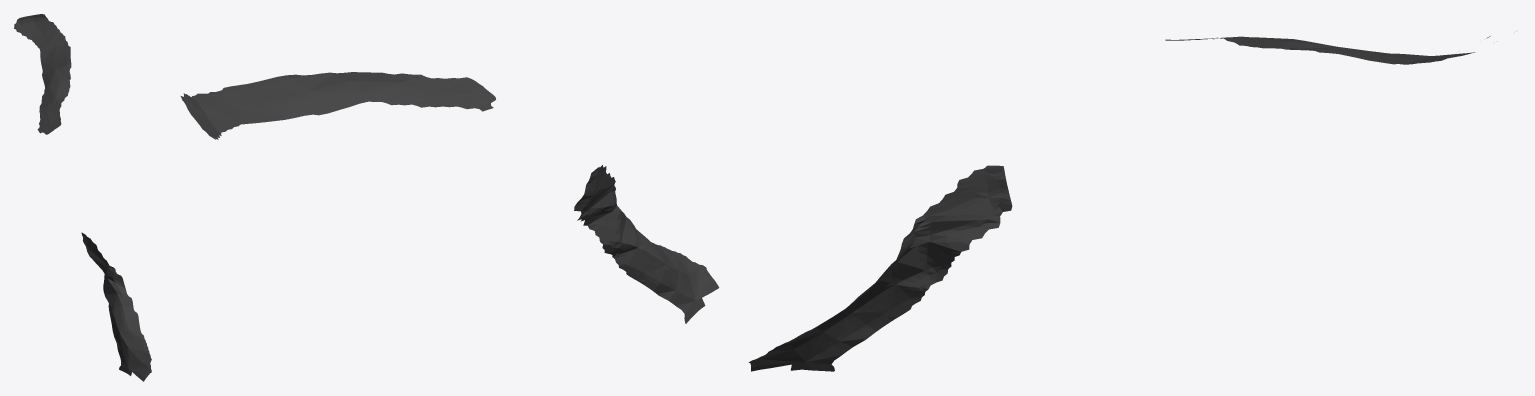
File: a_median_palmar_br.glb
3 renders of one model, left to right at view 1: azimuth 30°, elevation 25°; view 2: azimuth 150°, elevation 25°; view 3: azimuth 270°, elevation 25°, orthographic. The views are drawn at different scales.
Parts seen in each view (by area): view 1: a_median_palmar_br; view 2: a_median_palmar_br; view 3: a_median_palmar_br.
Part boxes in pixels (bbox=[...]): a_median_palmar_br: bbox=[14, 14, 151, 381]; a_median_palmar_br: bbox=[180, 72, 719, 323]; a_median_palmar_br: bbox=[748, 36, 1490, 371].
Size of the model in its own units: 0.0164 by 0.0353 by 0.0578.
Materials: 1 (1 with a texture image).
